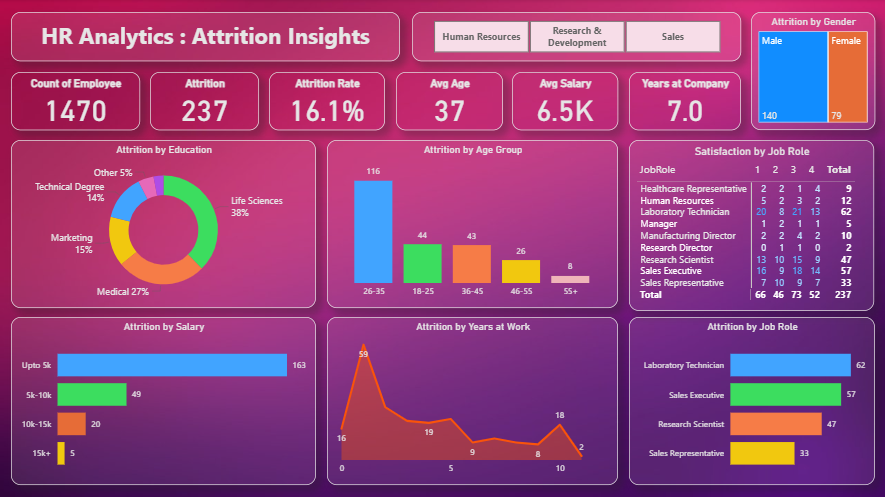

The page's visual inventory and layout, read from the dashboard file:
{"tool":"powerbi","page":{"name":"Page 1","canvas":[1280,720],"ordinal":0},"visuals":[{"type":"card","title":"Count of Employee","fields":{"Values":["CountNonNull(HR_Analytics.EmpID)"]},"box":[17.3,105.1,185.8,83.5],"z":0},{"type":"card","title":"Attrition","fields":{"Values":["Sum(HR_Analytics.Attrition Count)"]},"box":[217.4,105.1,157,83.5],"z":1000},{"type":"card","title":"Attrition Rate ","fields":{"Values":["HR_Analytics.Attrition Rate"]},"box":[388.8,105.1,167,83.5],"z":2000},{"type":"card","title":"Avg Age","fields":{"Values":["Avg(HR_Analytics.Age)"]},"box":[571.7,105.1,154.1,83.5],"z":3000},{"type":"card","title":"Avg Salary","fields":{"Values":["Avg(HR_Analytics.MonthlyIncome)"]},"box":[738.7,105.1,152.6,83.5],"z":4000},{"type":"card","title":"Years at Company","fields":{"Values":["Avg(HR_Analytics.YearsAtCompany)"]},"box":[907.2,105.1,161.3,83.5],"z":5000},{"type":"donutChart","title":"Attrition by Education","fields":{"Category":["HR_Analytics.EducationField"],"Y":["Sum(HR_Analytics.Attrition Count)"]},"box":[17.3,203,439.2,241.9],"z":6000},{"type":"columnChart","title":"Attrition by Age Group","fields":{"Category":["HR_Analytics.AgeGroup"],"Y":["Sum(HR_Analytics.Attrition Count)"]},"box":[472.3,203,419,241.9],"z":7000},{"type":"pivotTable","title":"Satisfaction by Job Role","fields":{"Rows":["HR_Analytics.JobRole"],"Columns":["HR_Analytics.JobSatisfaction"],"Values":["Sum(HR_Analytics.Attrition Count)"]},"box":[907.2,203,352.8,246.2],"z":8000},{"type":"clusteredBarChart","title":"Attrition by Salary","fields":{"Category":["HR_Analytics.SalarySlab"],"Y":["Sum(HR_Analytics.Attrition Count)"]},"box":[17.3,457.9,439.2,241.9],"z":9000},{"type":"clusteredBarChart","title":"Attrition by Job Role","fields":{"Category":["HR_Analytics.JobRole"],"Y":["Sum(HR_Analytics.Attrition Count)"]},"box":[907.2,457.9,354.2,241.9],"z":10000},{"type":"areaChart","title":"Attrition by Years at Work","fields":{"Category":["HR_Analytics.YearsAtCompany"],"Y":["Sum(HR_Analytics.Attrition Count)"]},"box":[472.3,457.9,419,241.9],"z":11000},{"type":"treemap","title":"Attrition by Gender","fields":{"Group":["HR_Analytics.Gender"],"Values":["Sum(HR_Analytics.Attrition Count)"]},"box":[1082.9,18.7,178.6,169.9],"z":12000},{"type":"slicer","fields":{"Values":["HR_Analytics.Department"]},"box":[594.7,18.7,473.8,70.6],"z":13000},{"type":"textbox","box":[17.3,18.7,560.2,70.6],"z":14000}]}

Visuals, with their boxes in screenshot pixels (x1, y1, x2, y2), scaled from the page's 1280x720 canvas onto the 885x497 screenshot:
"Count of Employee" card: (12,73,140,130)
"Attrition" card: (150,73,259,130)
"Attrition Rate " card: (269,73,384,130)
"Avg Age" card: (395,73,502,130)
"Avg Salary" card: (511,73,616,130)
"Years at Company" card: (627,73,739,130)
"Attrition by Education" donutChart: (12,140,316,307)
"Attrition by Age Group" columnChart: (327,140,616,307)
"Satisfaction by Job Role" pivotTable: (627,140,871,310)
"Attrition by Salary" clusteredBarChart: (12,316,316,483)
"Attrition by Job Role" clusteredBarChart: (627,316,872,483)
"Attrition by Years at Work" areaChart: (327,316,616,483)
"Attrition by Gender" treemap: (749,13,872,130)
slicer - HR_Analytics.Department: (411,13,739,62)
textbox: (12,13,399,62)
